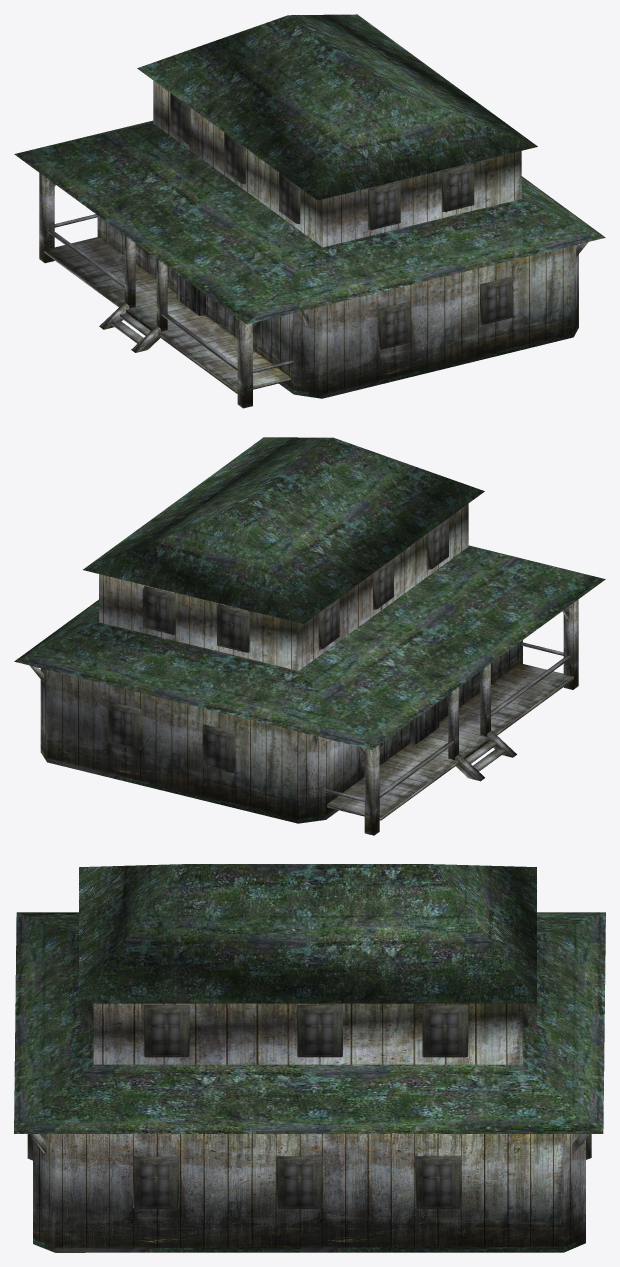
File: house7-01.obj
3 views of the same model, one above another, from view 1: azimuth 30°, elevation 25°; view 2: azimuth 150°, elevation 25°; view 3: azimuth 270°, elevation 25° (orthographic). The views are drawn at different scales.
Size of the model in its own units: 12.86 by 7.9 by 14.08.
1 material, 1 textured.
